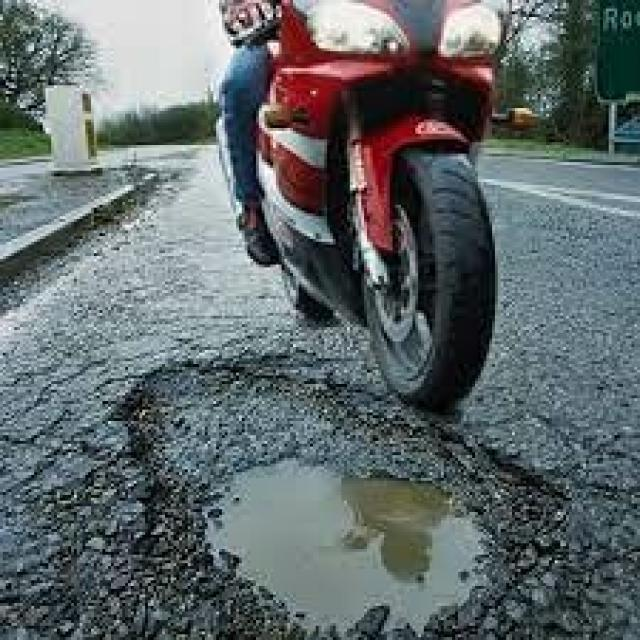Buraco: (104, 347, 580, 640)
